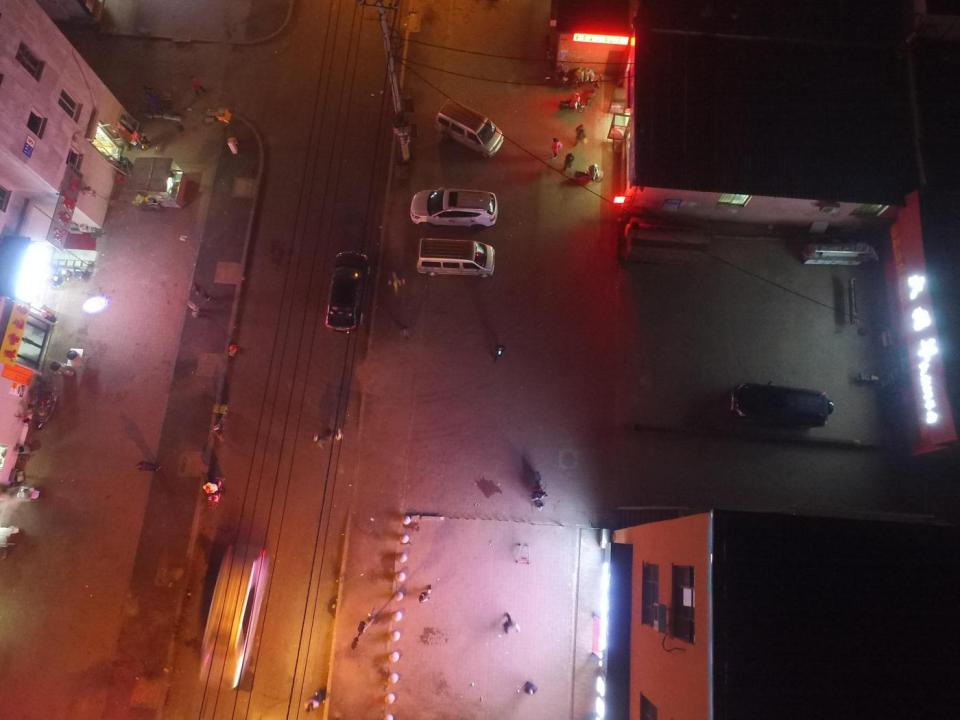car: (198, 543, 267, 689), (410, 187, 497, 230), (326, 252, 370, 332)
van: (730, 382, 834, 430), (435, 98, 504, 156), (416, 239, 494, 277)
